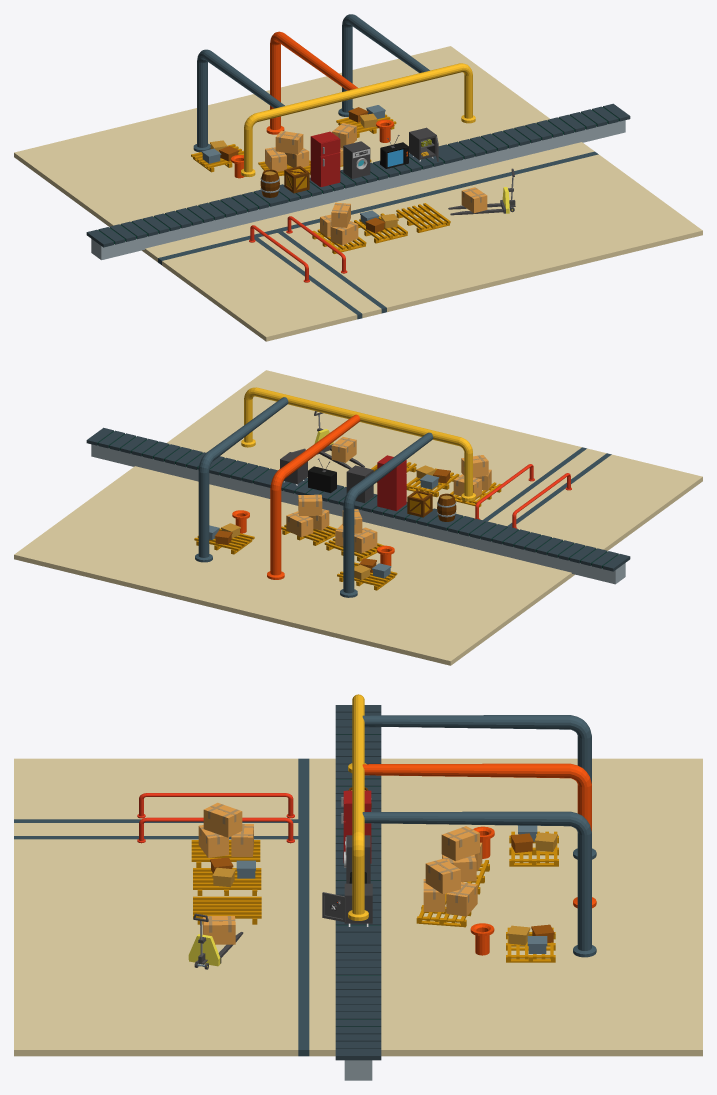
Rendered from Unity2Skfb.gltf.
3 views of the same model, one above another, from view 1: azimuth 30°, elevation 25°; view 2: azimuth 150°, elevation 25°; view 3: azimuth 270°, elevation 25° (orthographic). The views are drawn at different scales.
Parts seen in each view (by area): view 1: Ground, PipeVertica.001, Slider (1), Slider (2), Base (2), Base (1), Base, Slider, Shelf, Shelf.006, Shelf.002, Shelf.001 (+7 smaller); view 2: Ground, PipeVertica.001, Slider (2), Slider (1), Base (2), Base (1), Slider, Shelf.005, Base, Shelf, Shelf.006, Shelf.002 (+6 smaller); view 3: Ground, PipeVertica.001, Slider (1), Slider (2), Shelf, Shelf.005, Slider, Shelf.002, Shelf.006, Shelf.003, Shelf.004, Shelf.001 (+8 smaller).
Part boxes in pixels (<box>): Ground: <box>14,46,702,341</box>; PipeVertica.001: <box>193,14,475,176</box>; Slider (1): <box>438,103,630,162</box>; Slider (2): <box>86,189,280,247</box>; Base (2): <box>91,205,276,260</box>; Base (1): <box>451,120,625,173</box>; Base: <box>276,163,450,216</box>; Slider: <box>273,149,452,204</box>; Shelf: <box>312,202,366,253</box>; Shelf.006: <box>258,130,310,176</box>; Shelf.002: <box>354,210,407,243</box>; Shelf.001: <box>396,203,450,232</box>; Ground: <box>14,370,702,665</box>; PipeVertica.001: <box>195,387,475,597</box>; Slider (2): <box>438,514,630,571</box>; Slider (1): <box>86,427,277,486</box>; Base (2): <box>440,529,625,584</box>; Base (1): <box>91,444,265,497</box>; Slider: <box>264,476,443,528</box>; Shelf.005: <box>281,494,336,545</box>; Base: <box>266,487,440,540</box>; Shelf: <box>450,455,501,507</box>; Shelf.006: <box>324,509,383,561</box>; Shelf.002: <box>406,465,459,497</box>; Ground: <box>14,758,702,1056</box>; PipeVertica.001: <box>348,694,596,957</box>; Slider (1): <box>335,937,381,1060</box>; Slider (2): <box>335,705,381,821</box>; Shelf: <box>191,802,260,867</box>; Shelf.005: <box>416,858,477,927</box>; Slider: <box>335,821,381,937</box>; Shelf.002: <box>193,857,261,895</box>; Shelf.006: <box>441,826,489,894</box>; Shelf.003: <box>509,825,558,866</box>; Shelf.004: <box>506,924,555,962</box>; Shelf.001: <box>193,896,261,924</box>.
Bounding box in the file's own units: 36.17 × 7.06 × 30.
10 materials, 9 textured.
